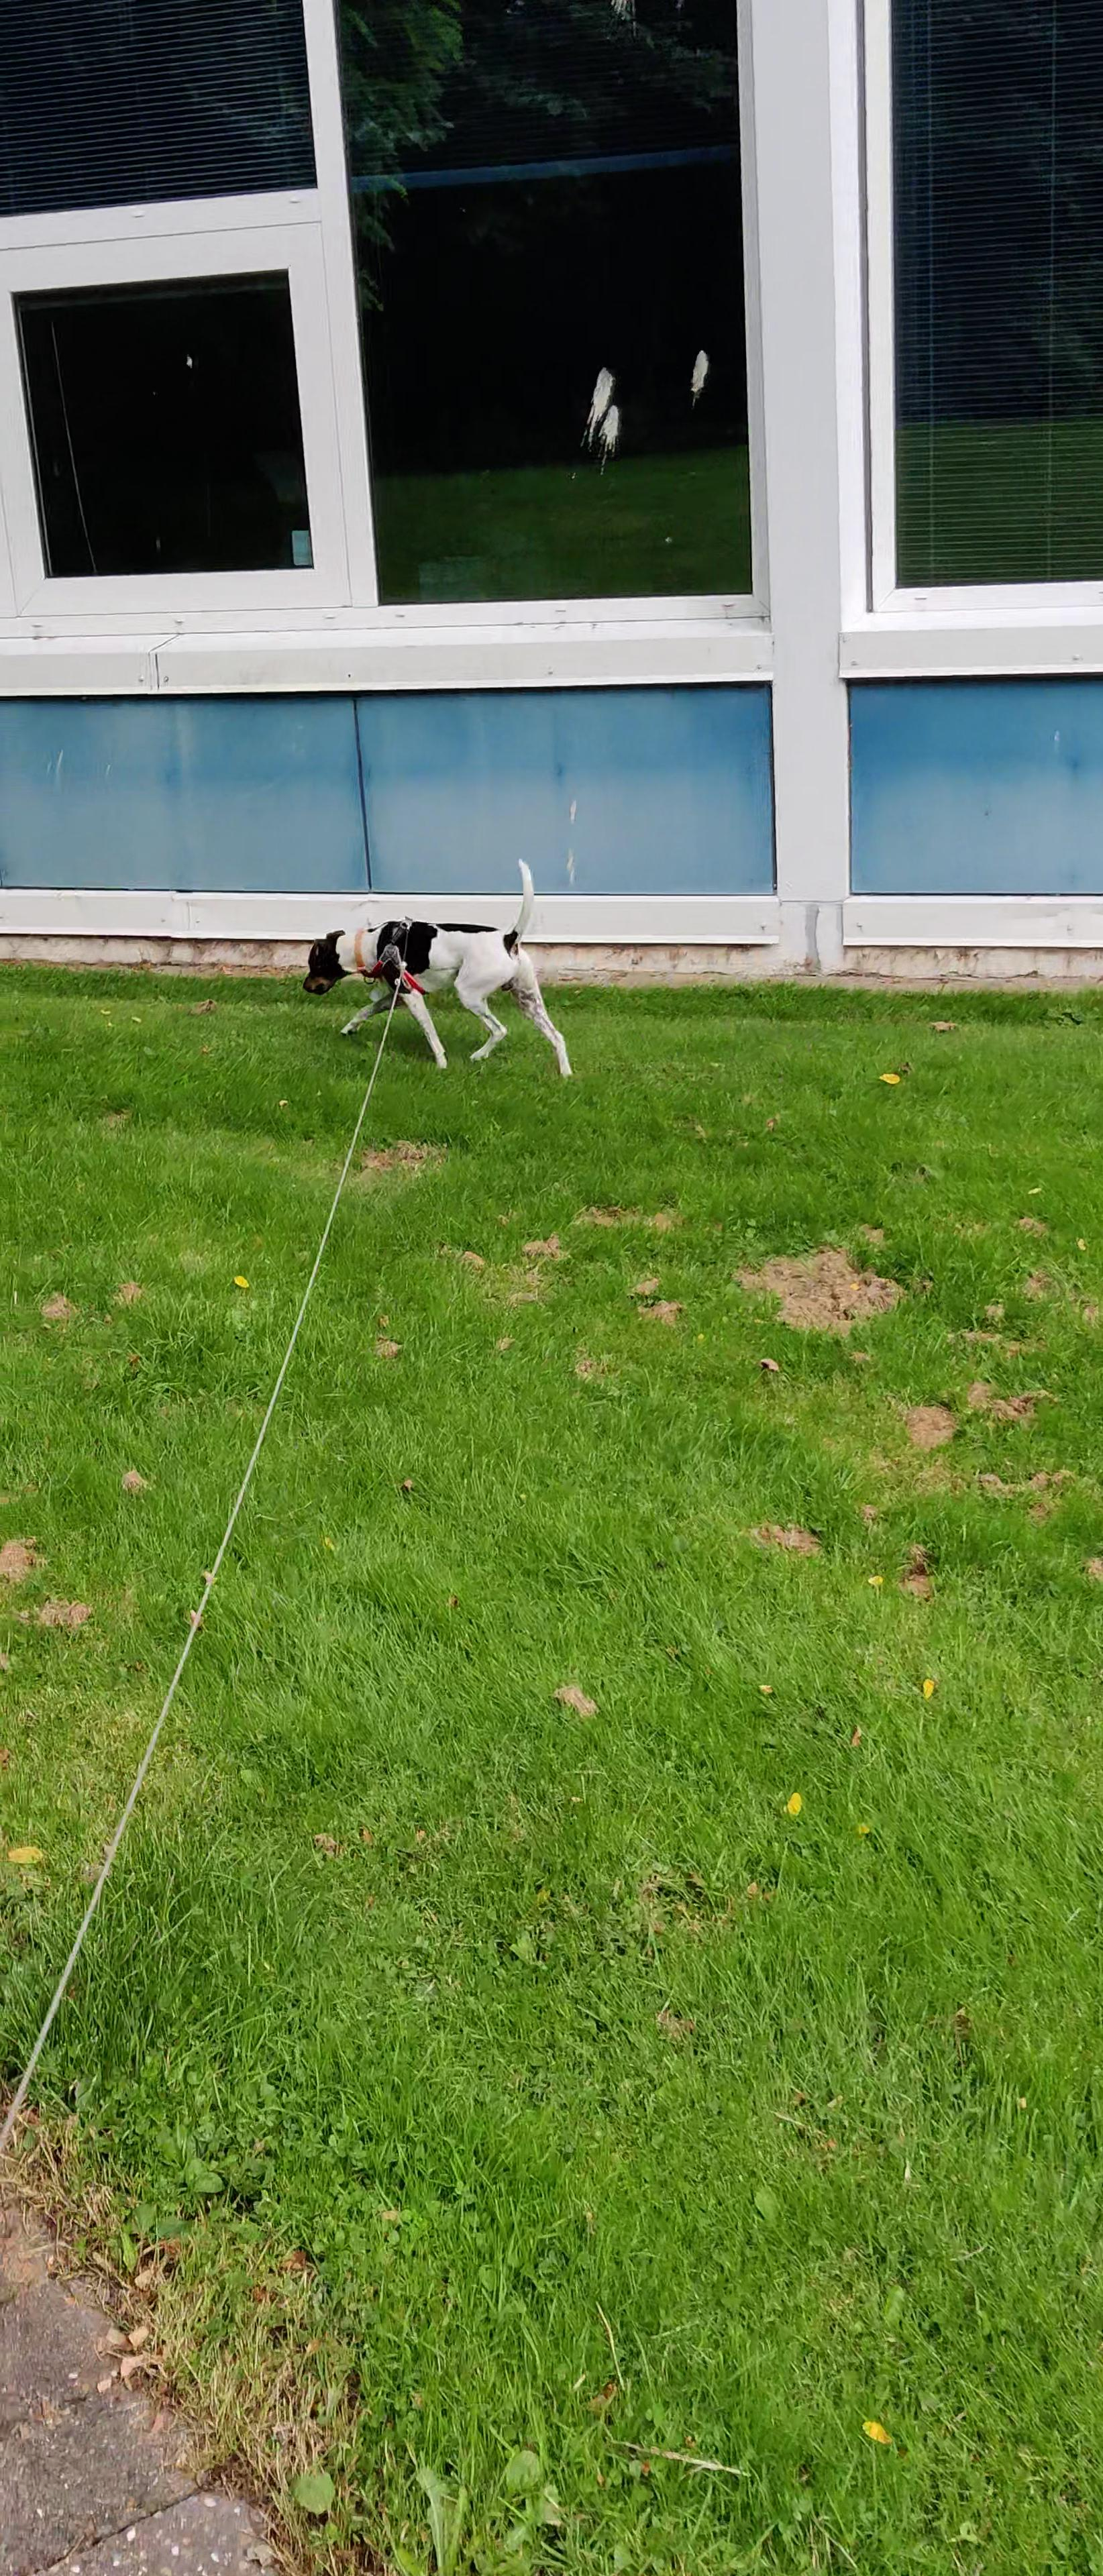Dog: (299, 853, 577, 1078)
